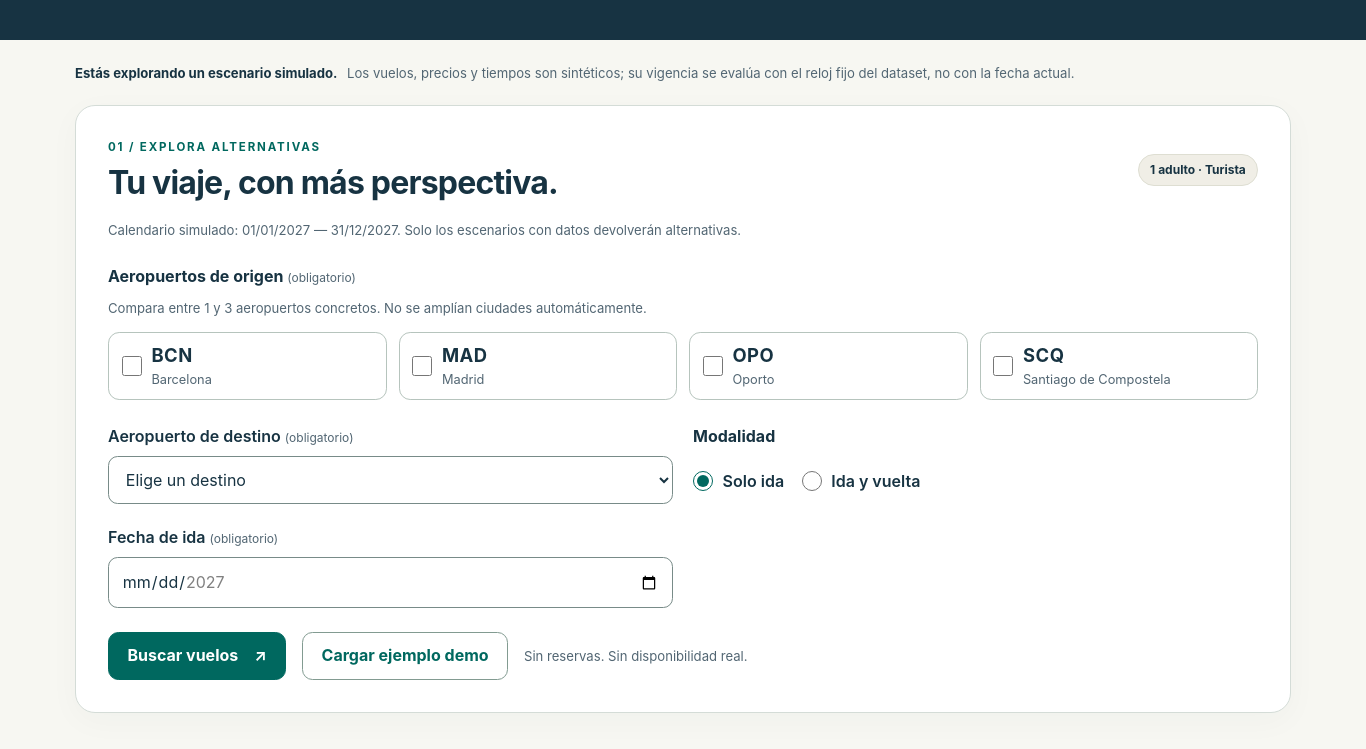
experiencia Airwise demo › no sustituye un error del servidor por vuelos ni muestra detalles internos
(page scrolled)
Click the checkbox labelled "OPO Oporto": (713, 366) [703,356,723,376]
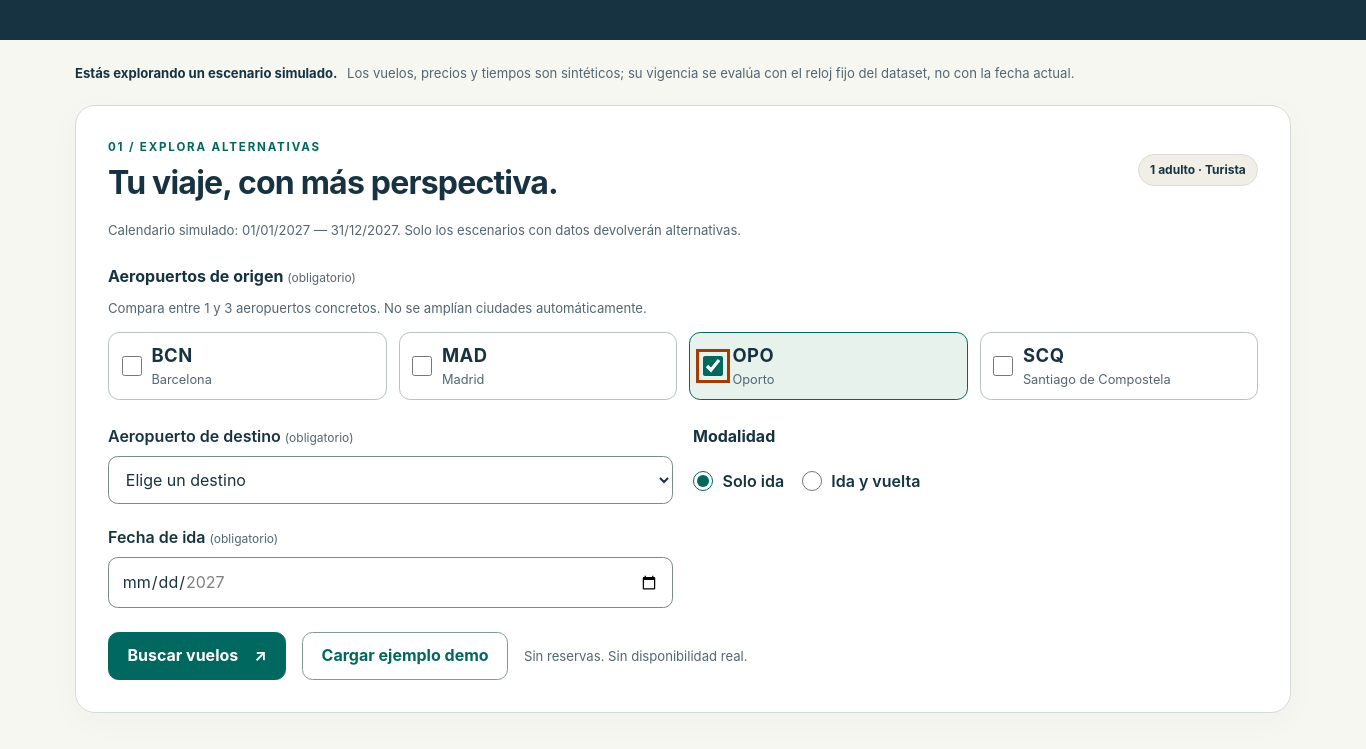
Select "MAD · Madrid" in the dropdown labelled "Aeropuerto de destino (obligatorio)": (390, 480) [108,456,673,504]
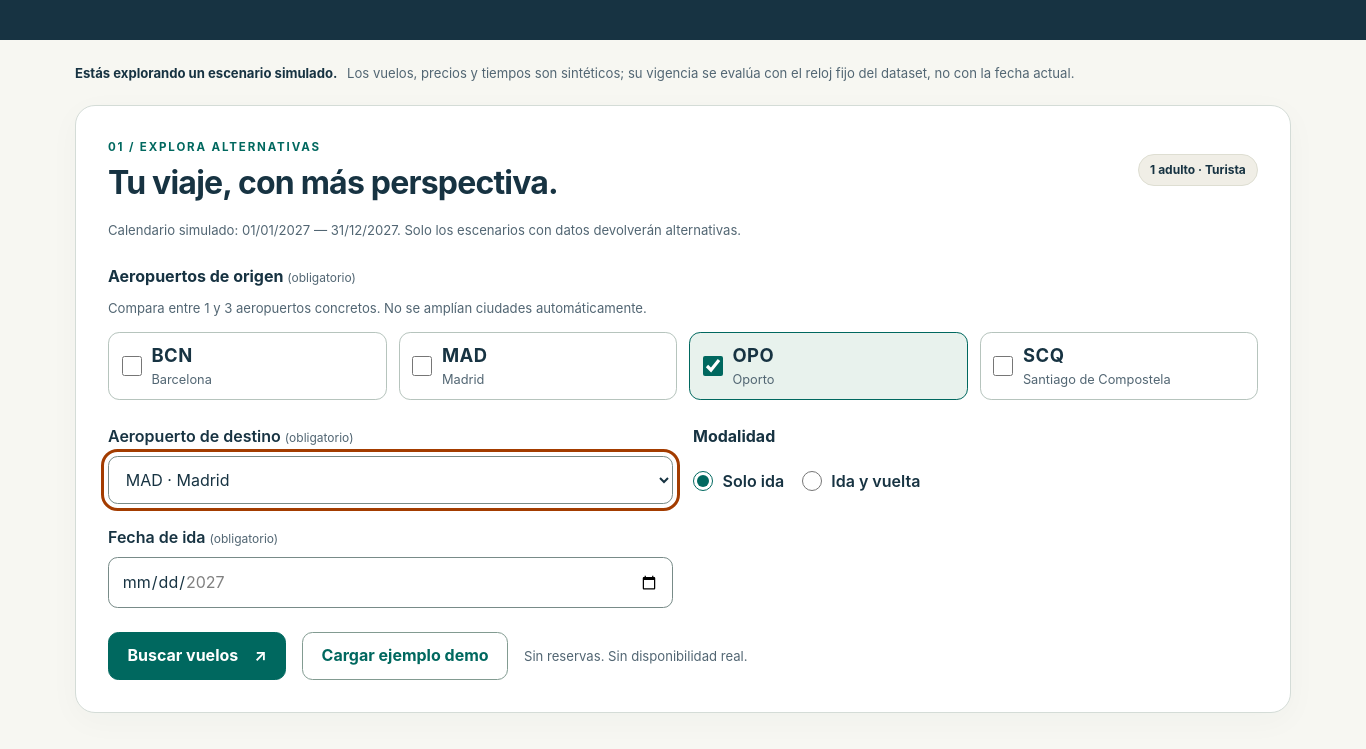
Click the radio button labelled "Solo ida": (703, 481) [693,471,713,491]
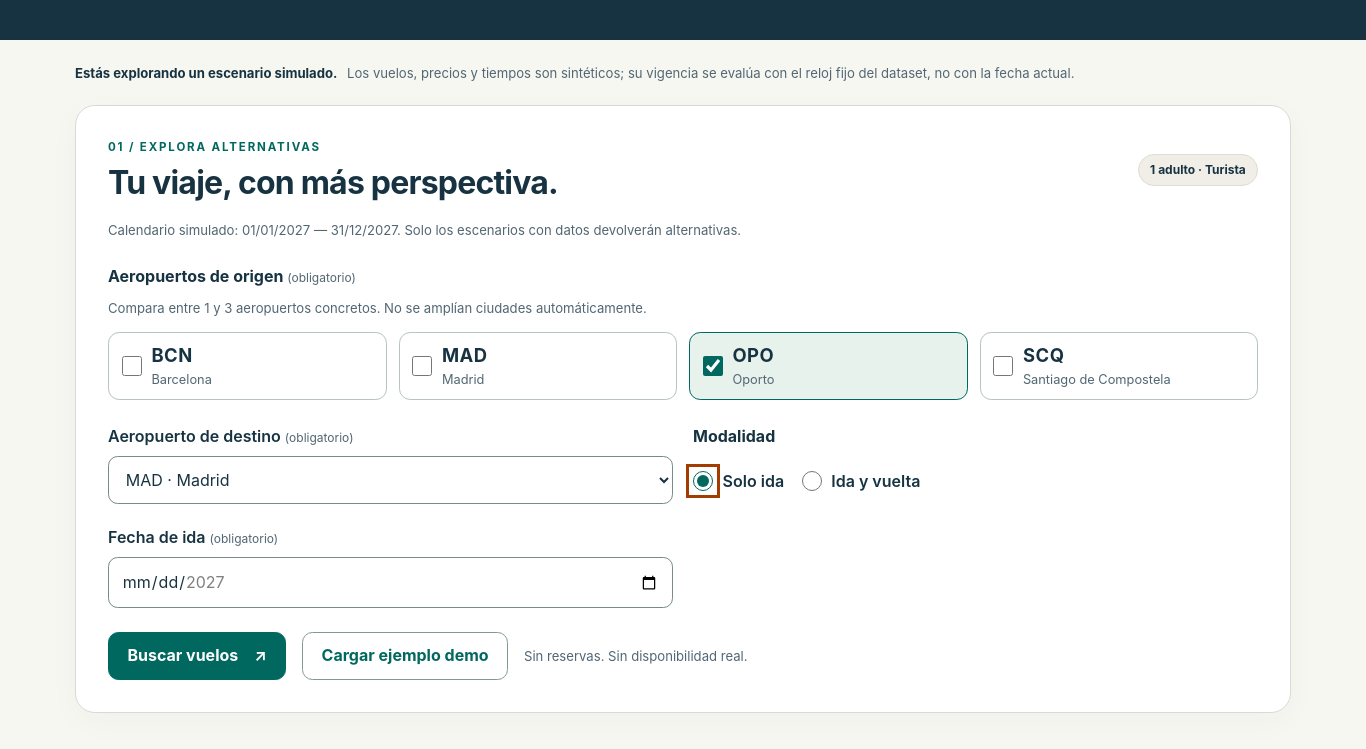
In the date field labelled "Fecha de ida (obligatorio)": (390, 582) [108,557,673,608], type "2027-02-10"
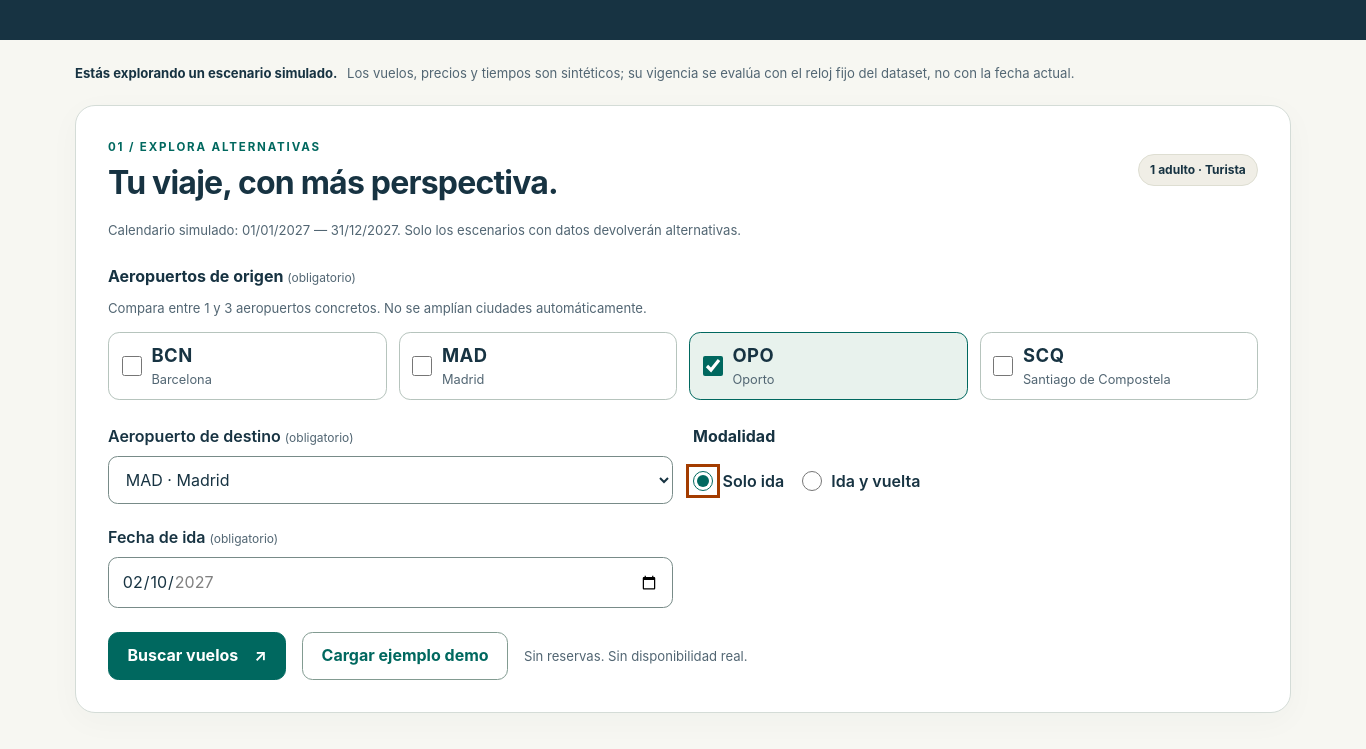
Click the button "Buscar vuelos ↗": (197, 656) [108,632,286,680]
(page scrolled)
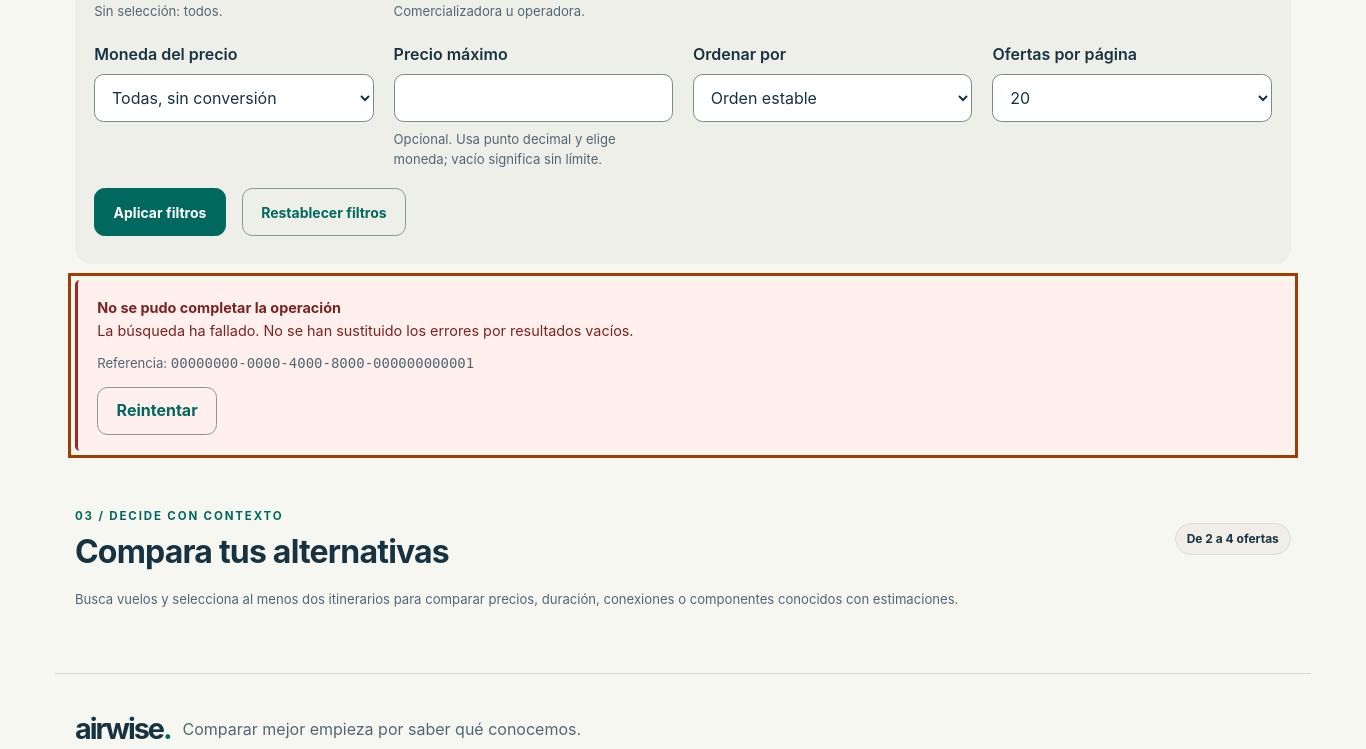
Check: the message is shown, box [75,280,1291,451]
